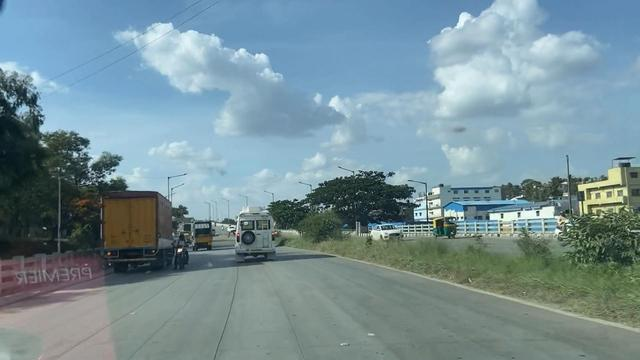HMV: (97, 191, 178, 272), (234, 202, 275, 265)
LMV: (173, 229, 190, 266)
